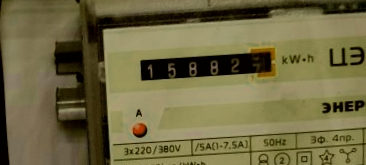1: (145, 61, 155, 78)
2: (229, 55, 240, 72)
5: (166, 60, 177, 76)
7: (251, 60, 261, 72)
8: (208, 57, 219, 75), (187, 60, 198, 76)
screen: (132, 41, 282, 90)
